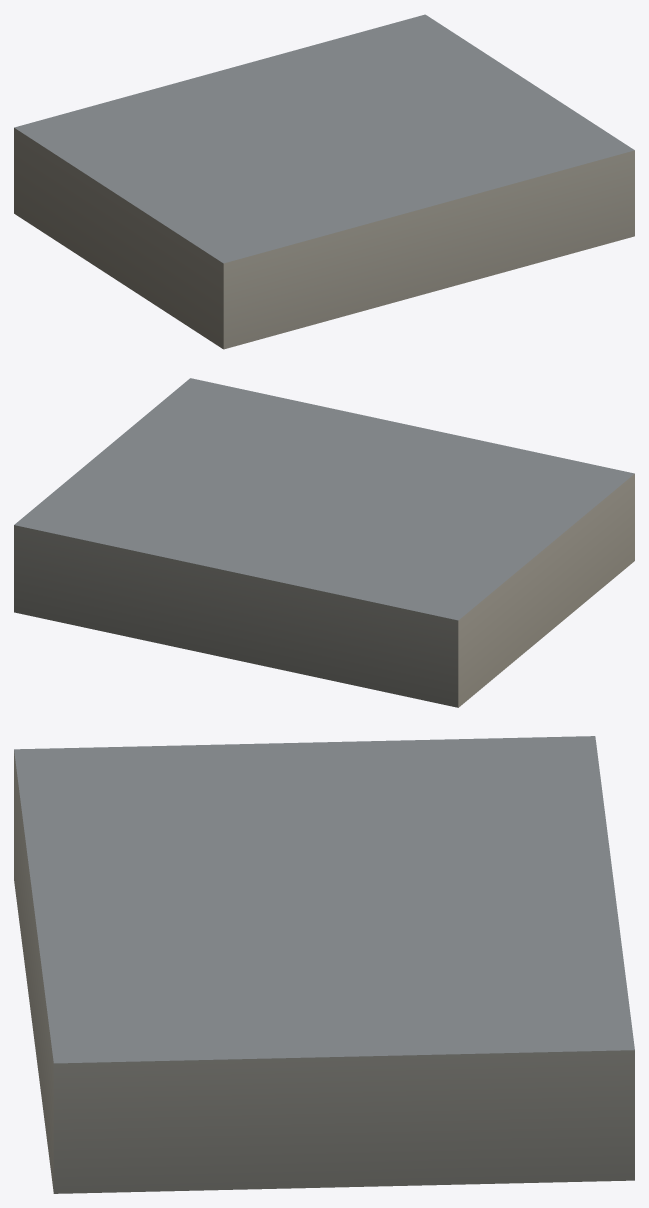
Rendered from bld_14_0.fbx.
3 renders of one model, top to bottom at view 1: azimuth 30°, elevation 25°; view 2: azimuth 150°, elevation 25°; view 3: azimuth 270°, elevation 25°, orthographic. The views are drawn at different scales.
Visible parts, largest first — view 1: bld_14_0_LOD0; view 2: bld_14_0_LOD0; view 3: bld_14_0_LOD0.
Boxes of the visible parts, x1,y1,x2,y2 form: bld_14_0_LOD0: [14, 14, 634, 349]; bld_14_0_LOD0: [14, 378, 634, 707]; bld_14_0_LOD0: [14, 736, 634, 1193].
Bounding box in the file's own units: 53.03 × 9.85 × 42.5.
